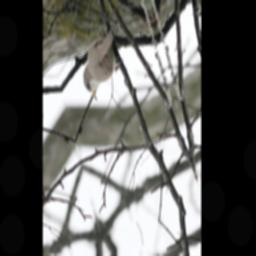Cuckoo: (75, 26, 128, 106)
